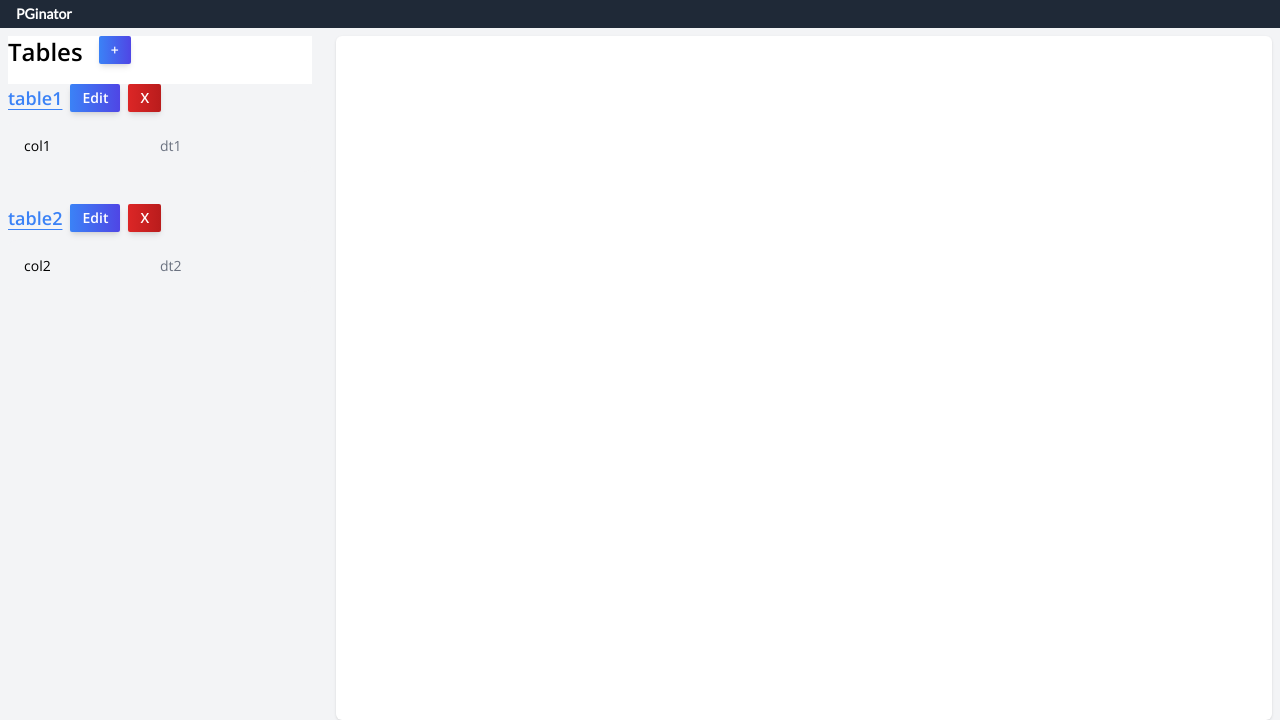
Test: Changing actions › displays appropriate fields based on action selection
Expected: the link "table1" is shown, [8,84,62,112]
Click the button "Edit" next to "table1" at [96, 98], box [70,84,120,112]
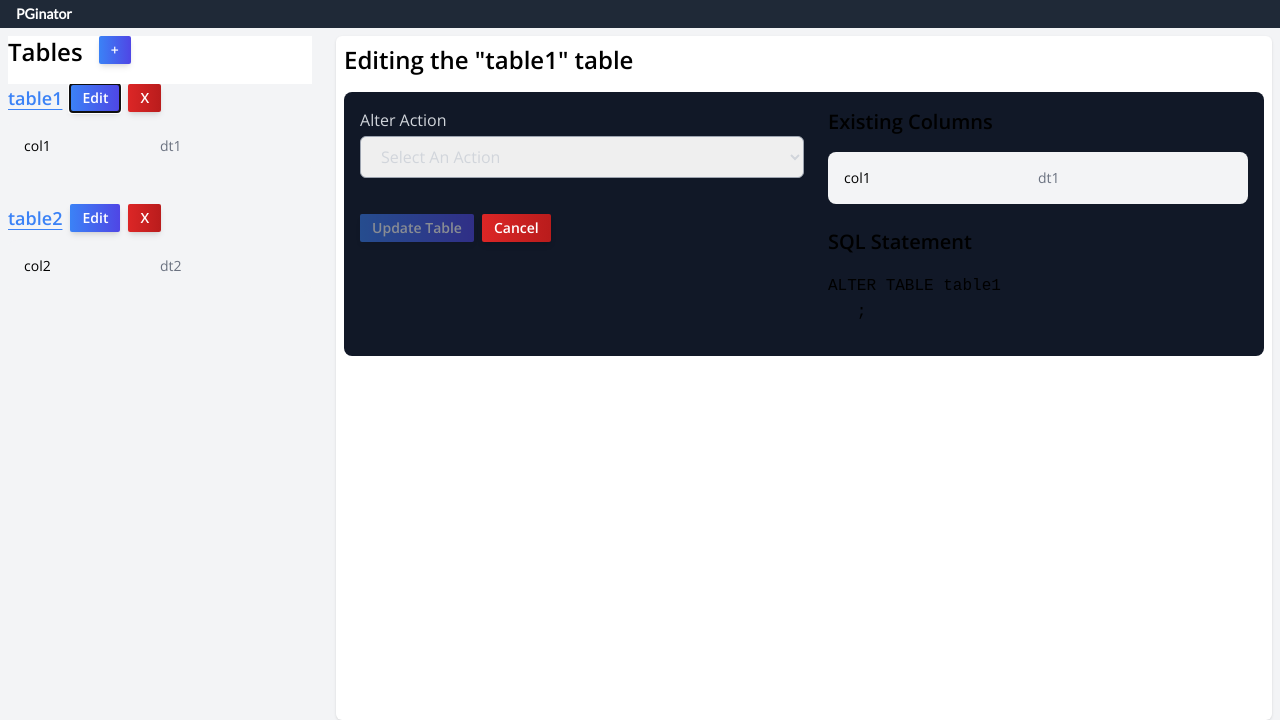
Select "ADD" in the dropdown labelled "Alter Action" at [582, 157], box [360,136,804,178]
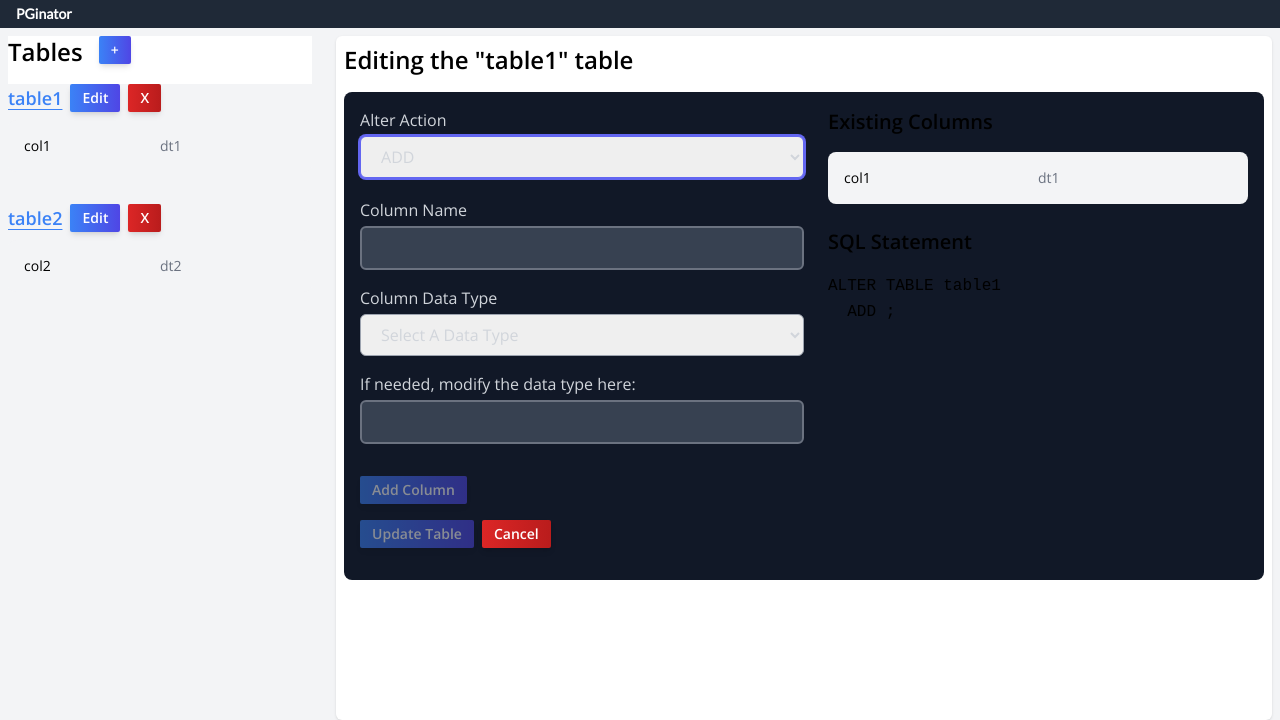
Expected: the text "Column Name" is shown, [360,198,804,270]
Expected: the text "Column Data Type" is shown, [360,286,804,356]
Select "DROP" in the dropdown labelled "Alter Action" at [582, 157], box [360,136,804,178]
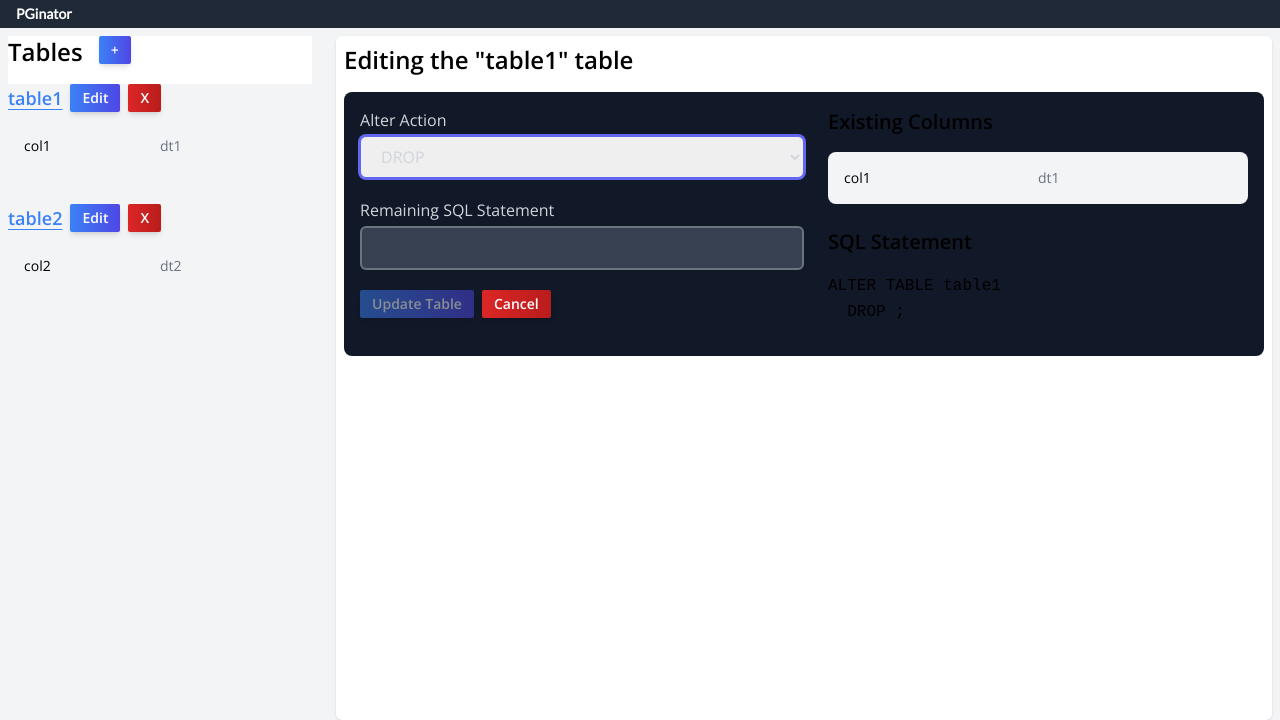
Expected: the text "Column Name" is gone
Expected: the text "Column Data Type" is gone
Expected: the text "Remaining SQL Statement" is shown, [360,198,804,270]
